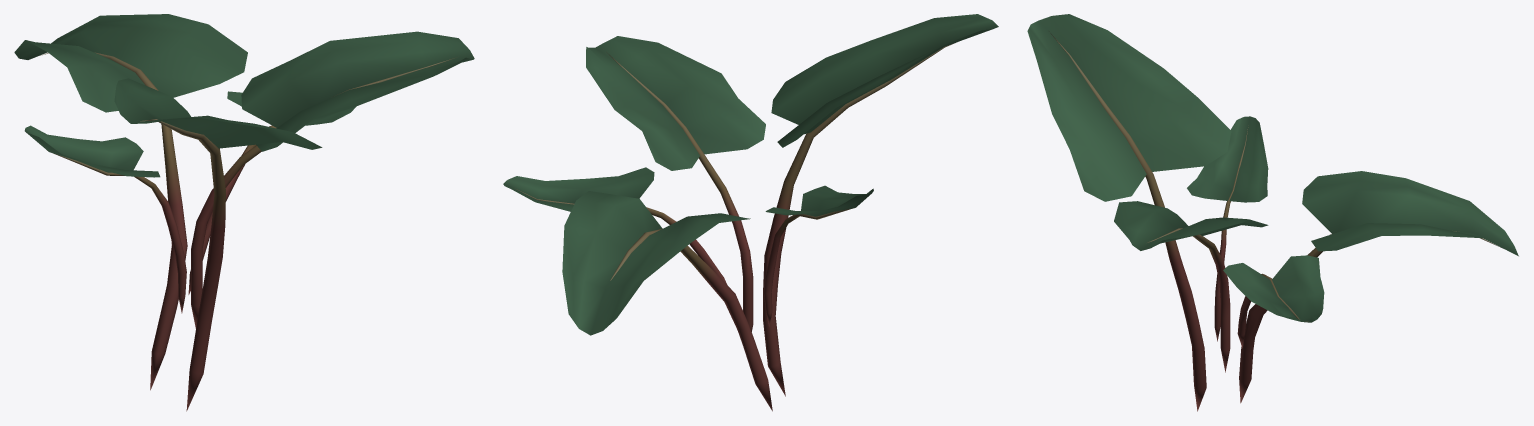
File: plants-leafy-plants-elephant-ear_v2.fbx
3 renders of one model, left to right at view 1: azimuth 30°, elevation 25°; view 2: azimuth 150°, elevation 25°; view 3: azimuth 270°, elevation 25°, orthographic. The views are drawn at different scales.
Visible parts, largest first — view 1: Elephant Ear_v2; view 2: Elephant Ear_v2; view 3: Elephant Ear_v2.
Part boxes in pixels (left/top/right/bottom): Elephant Ear_v2: left=14, top=14, right=474, bottom=411; Elephant Ear_v2: left=503, top=14, right=998, bottom=411; Elephant Ear_v2: left=1027, top=14, right=1518, bottom=411.
Size of the model in its own units: 0.8081 by 0.7562 by 1.
